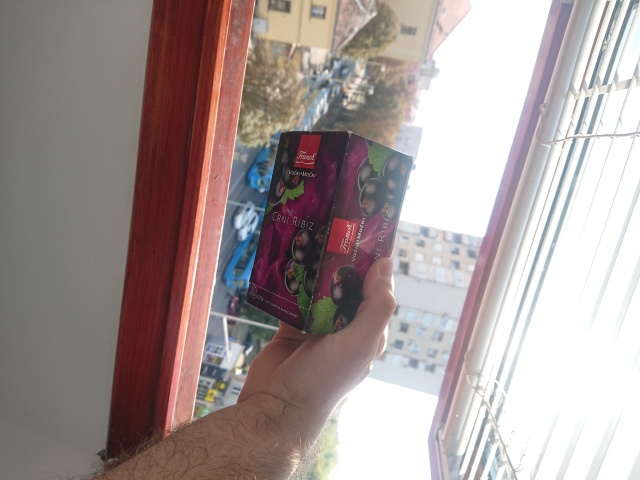Franck Black Currant Tea 60g: (242, 127, 416, 337)
